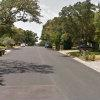Tree: (49, 2, 99, 69)
